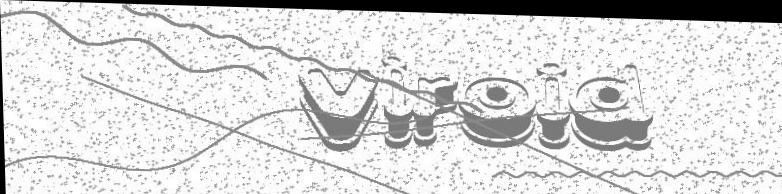d: (569, 59, 654, 148)
i: (537, 58, 571, 145), (382, 52, 413, 147)
o: (458, 73, 537, 145)
r: (411, 74, 459, 145)
v: (297, 66, 379, 150)
